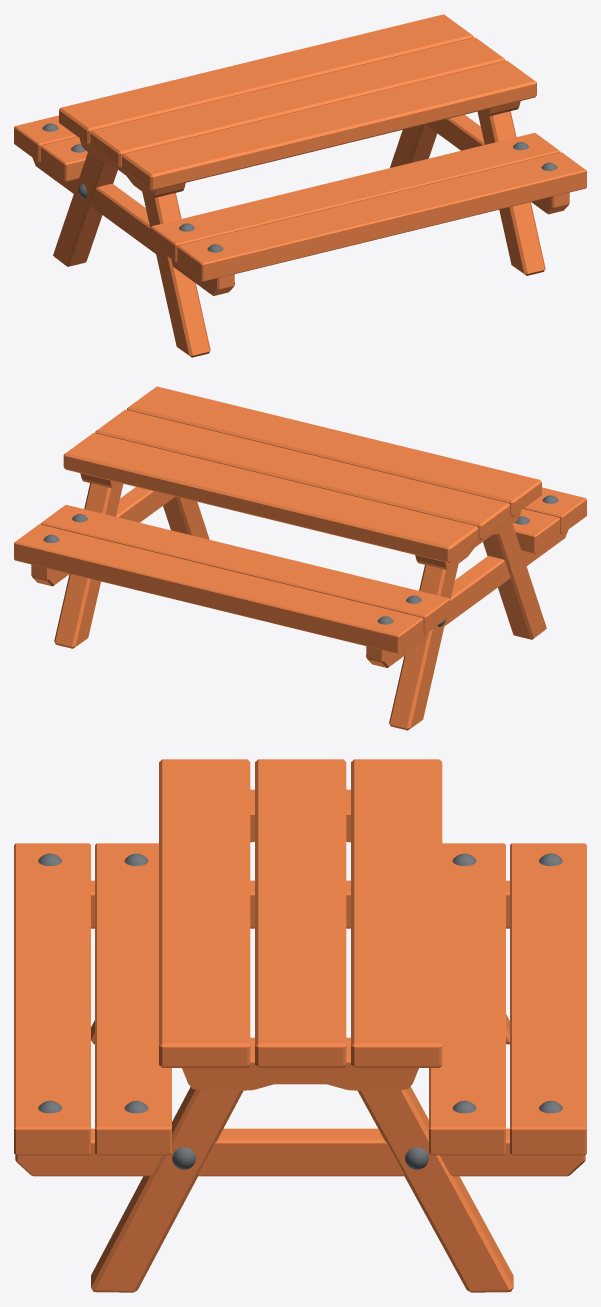
File: Table.fbx
The picture shows the model from 3 angles, top to bottom: view 1: azimuth 30°, elevation 25°; view 2: azimuth 150°, elevation 25°; view 3: azimuth 270°, elevation 25°; orthographic projection. The views are drawn at different scales.
Visible parts, largest first — view 1: Table; view 2: Table; view 3: Table.
Boxes of the visible parts, x1,y1,x2,y2 form: Table: [14, 14, 586, 357]; Table: [14, 386, 586, 730]; Table: [14, 759, 586, 1292].
Size of the model in its own units: 1108 by 467 by 933.
